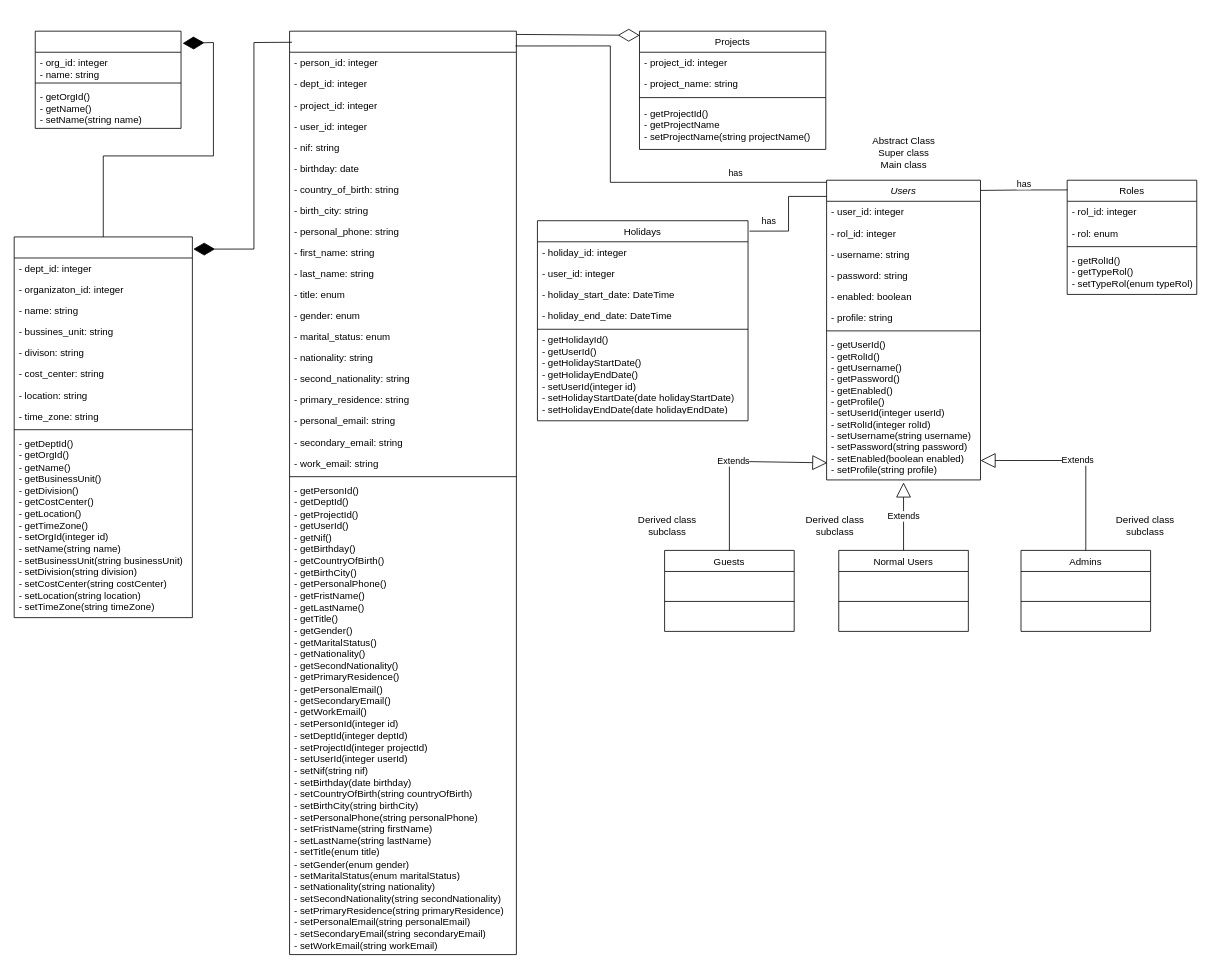
The diagram is 1211 pixels wide and 971 high, and some of its shapes have lost their labels. Here are the shapes that lost their labels. From the top down, the box of each, then its label:
(34, 30, 181, 128): Organizations
(13, 236, 192, 618): Departments
(289, 30, 516, 955): Employees
